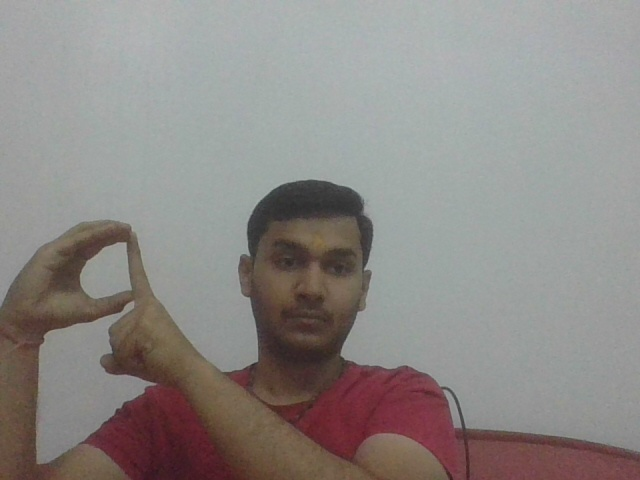D: (11, 217, 186, 381)
